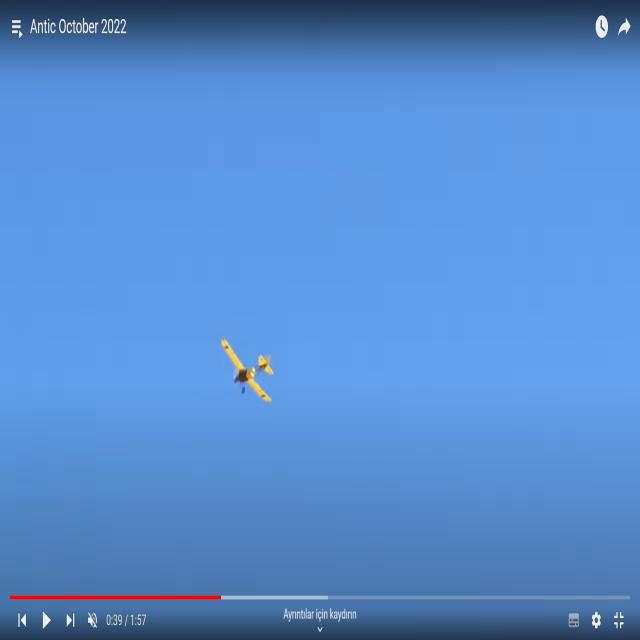iha: (219, 368, 274, 371)
